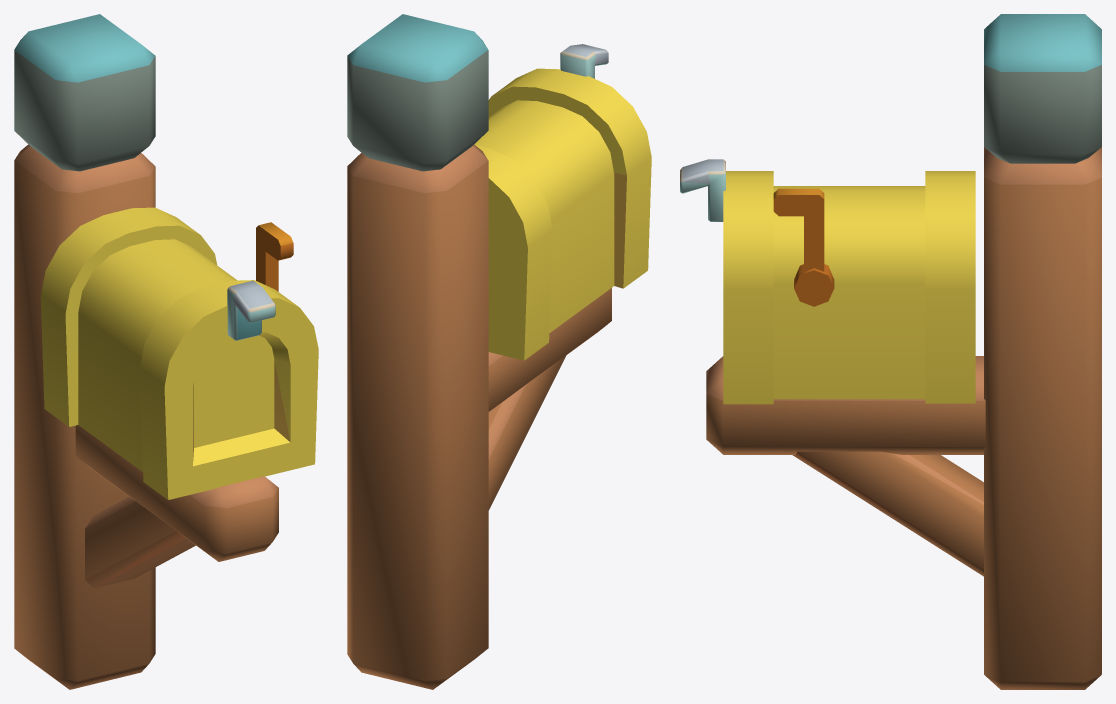
Rendered from itch_tiny_homely_house_mailbox.glb.
3 renders of one model, left to right at view 1: azimuth 30°, elevation 25°; view 2: azimuth 150°, elevation 25°; view 3: azimuth 270°, elevation 25°, orthographic.
Parts seen in each view (by area): view 1: mailbox, mailbox_door, mailbox_flag; view 2: mailbox, mailbox_door; view 3: mailbox, mailbox_door, mailbox_flag.
Boxes of the visible parts, x1=… form: mailbox: x1=14, y1=14, x2=278, y2=689; mailbox_door: x1=139, y1=280, x2=318, y2=499; mailbox_flag: x1=256, y1=222, x2=293, y2=291; mailbox: x1=347, y1=14, x2=614, y2=689; mailbox_door: x1=488, y1=44, x2=651, y2=288; mailbox: x1=706, y1=14, x2=1101, y2=689; mailbox_door: x1=680, y1=159, x2=773, y2=404; mailbox_flag: x1=773, y1=188, x2=834, y2=306.
Size of the model in its own units: 0.5204 by 1.98 by 1.18.
